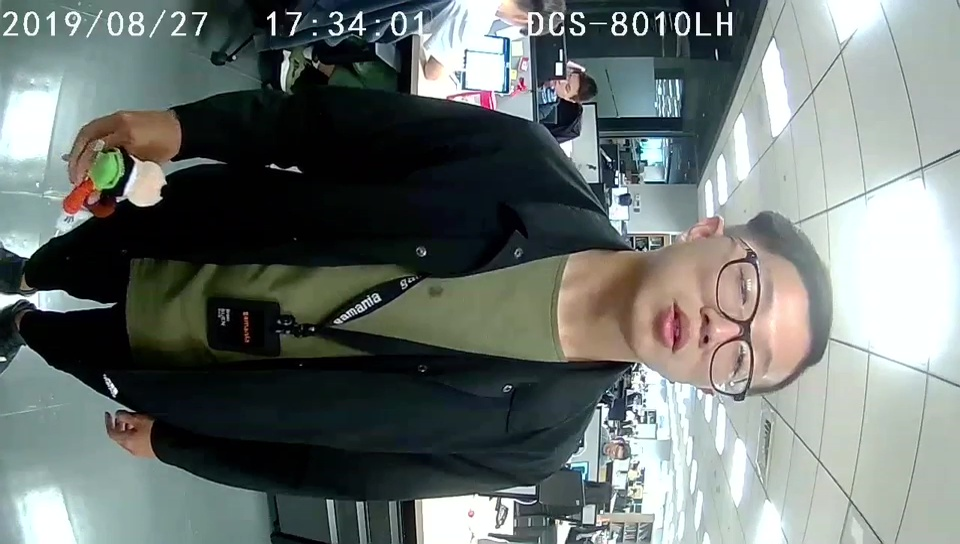goofy: (58, 146, 165, 234)
